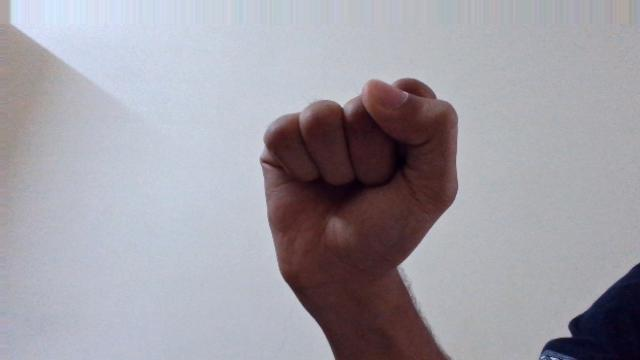Front: (255, 77, 457, 279)
